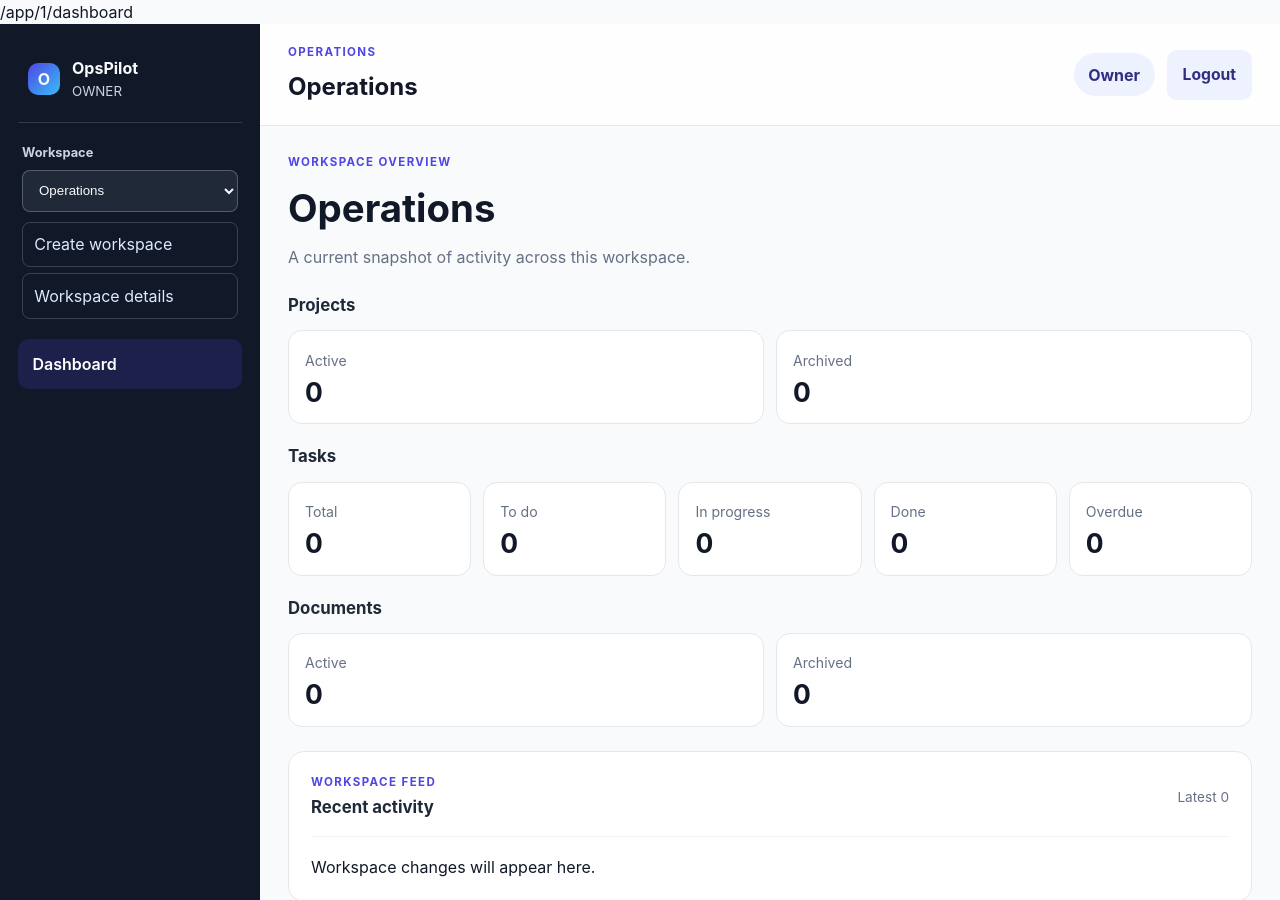
Test: F2 workspace behavior › hides rename controls for workspace members
Step 1. Click the button "Workspace details" → coordinates (130, 296), box [22,273,238,319]
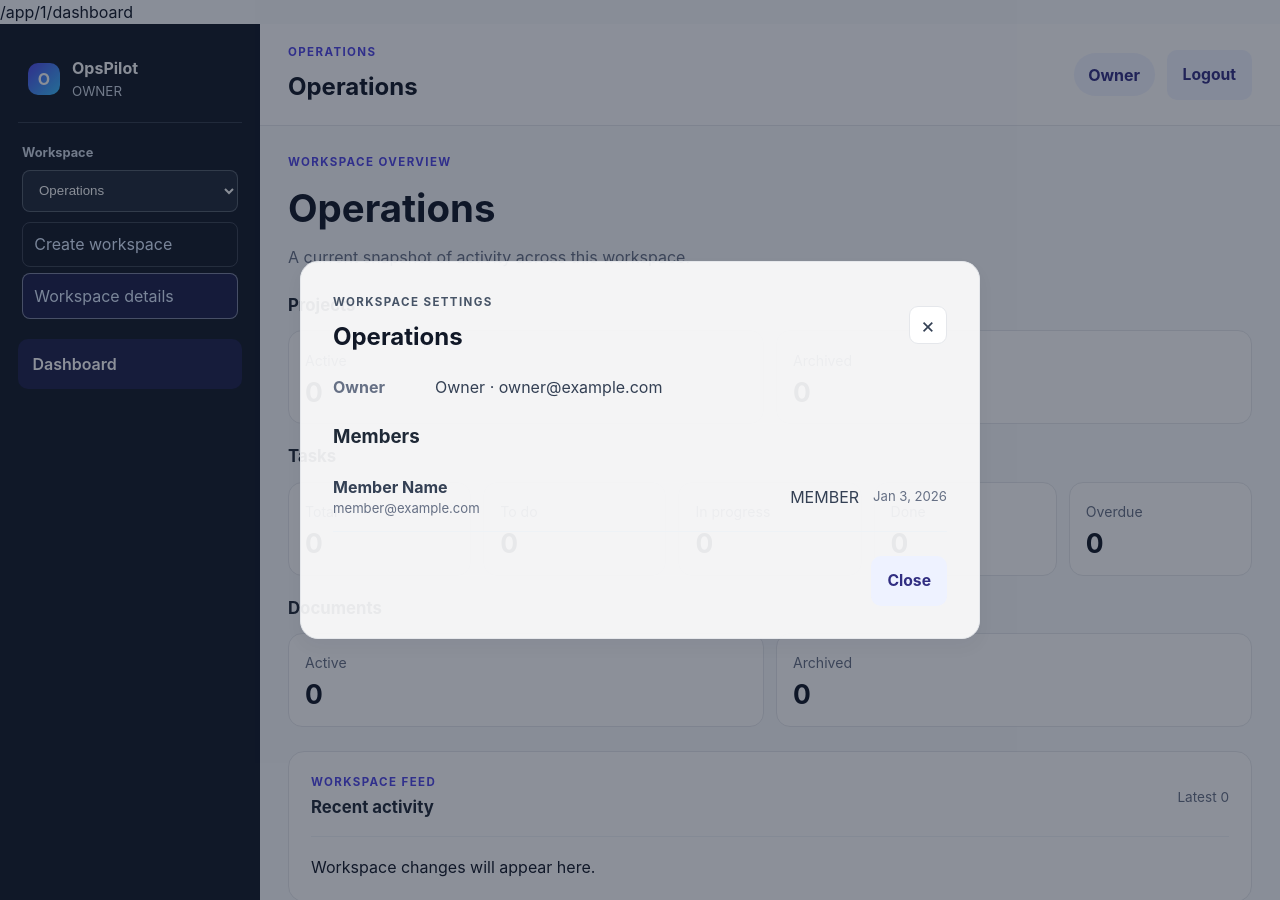
expect the text "Member Name" is shown: met, box [333,478,448,498]
